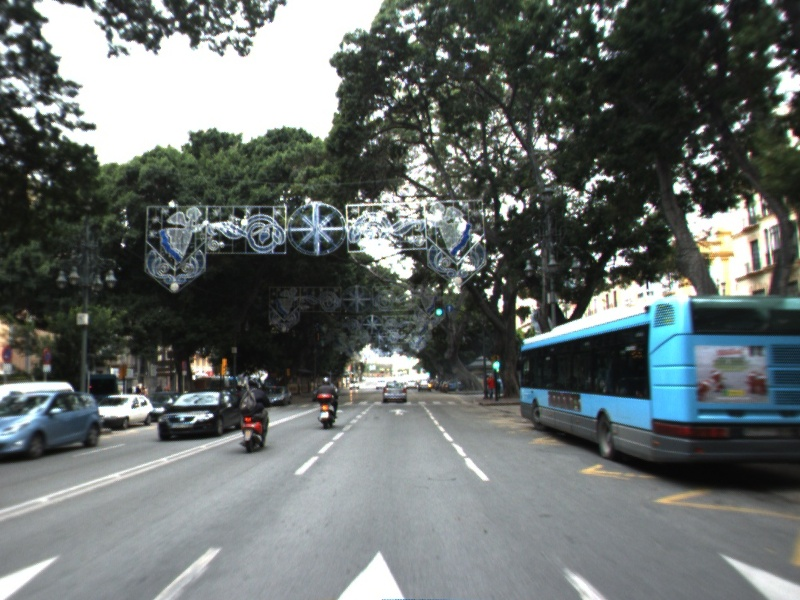STRAIGHT: (387, 406, 412, 417)
